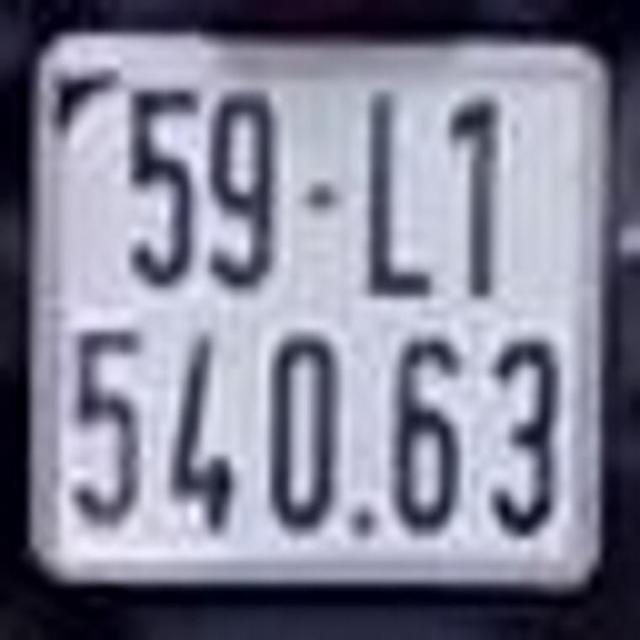0: (268, 330, 336, 528)
1: (450, 92, 498, 295)
3: (488, 334, 555, 536)
4: (180, 328, 234, 541)
5: (128, 80, 204, 285), (78, 326, 142, 524)
6: (396, 328, 456, 522)
9: (215, 89, 273, 287)
L: (358, 101, 429, 302)
